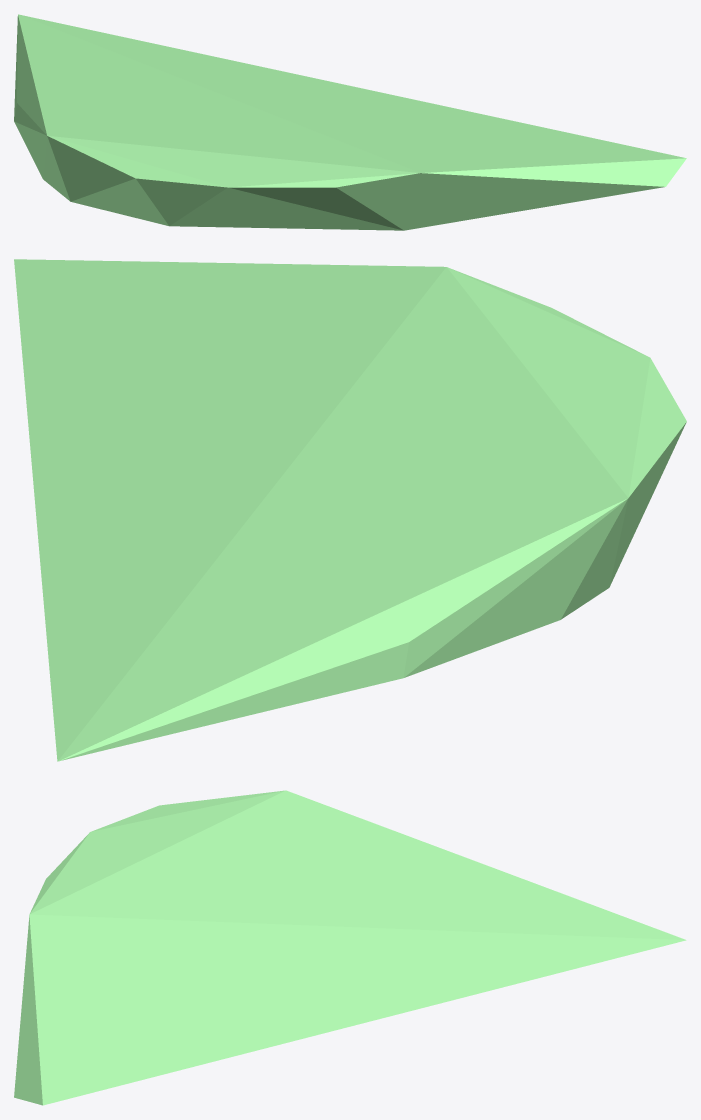
Rendered from franka_link5resp_coll_6.dae.
The picture shows the model from 3 angles, top to bottom: view 1: azimuth 30°, elevation 25°; view 2: azimuth 150°, elevation 25°; view 3: azimuth 270°, elevation 25°; orthographic projection. The views are drawn at different scales.
Visible parts, largest first — view 1: node; view 2: node; view 3: node.
Boxes of the visible parts, x1,y1,x2,y2 form: node: [14, 14, 686, 230]; node: [14, 259, 686, 761]; node: [14, 790, 686, 1105].
Bounding box in the file's own units: 0.0809 × 0.0104 × 0.0904.
